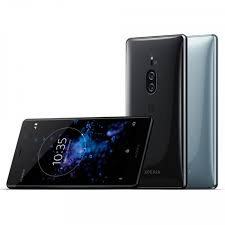sony: (6, 114, 151, 190)
